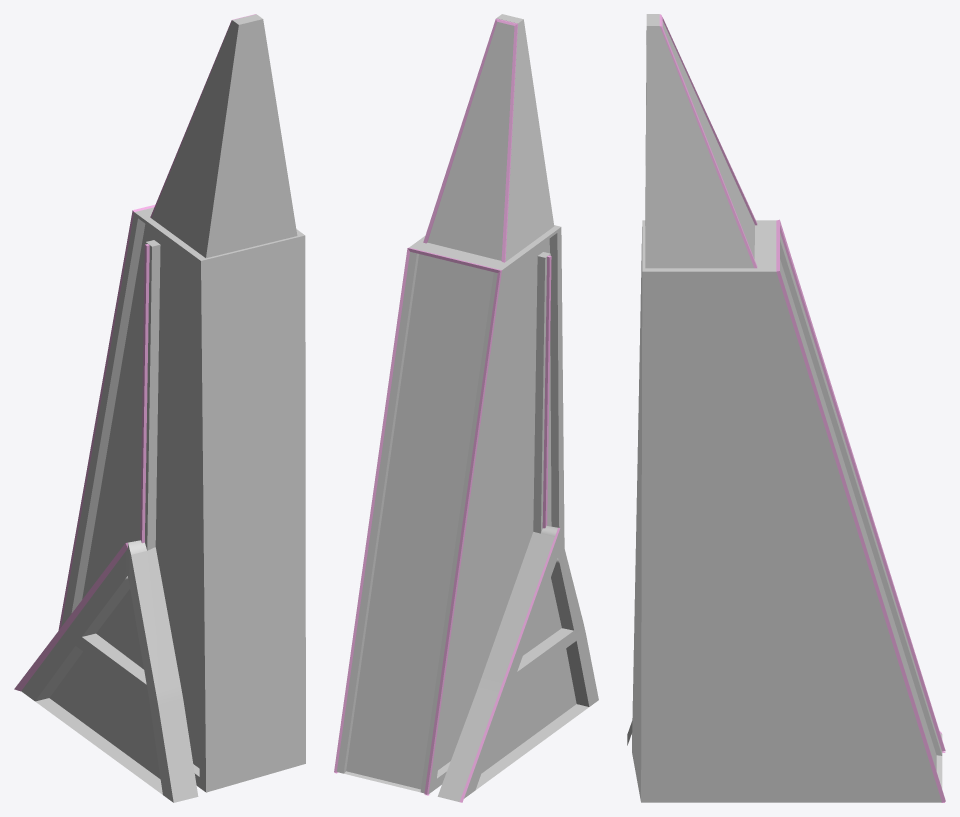
File: SM_Environment_Buildings_Mid_01.fbx
The picture shows the model from 3 angles, left to right: view 1: azimuth 30°, elevation 25°; view 2: azimuth 150°, elevation 25°; view 3: azimuth 270°, elevation 25°; orthographic projection. The views are drawn at different scales.
Visible parts, largest first — view 1: SM_Environment_Buildings_Mid_01, Lights; view 2: SM_Environment_Buildings_Mid_01, Lights; view 3: SM_Environment_Buildings_Mid_01, Lights.
Part boxes in pixels (x1,y1,x2,y2): SM_Environment_Buildings_Mid_01: (21, 14, 305, 802); Lights: (14, 14, 255, 691); SM_Environment_Buildings_Mid_01: (337, 14, 598, 801); Lights: (334, 18, 560, 802); SM_Environment_Buildings_Mid_01: (627, 14, 942, 802); Lights: (659, 14, 945, 802).
Size of the model in its own units: 8.18 by 41.35 by 15.75.
